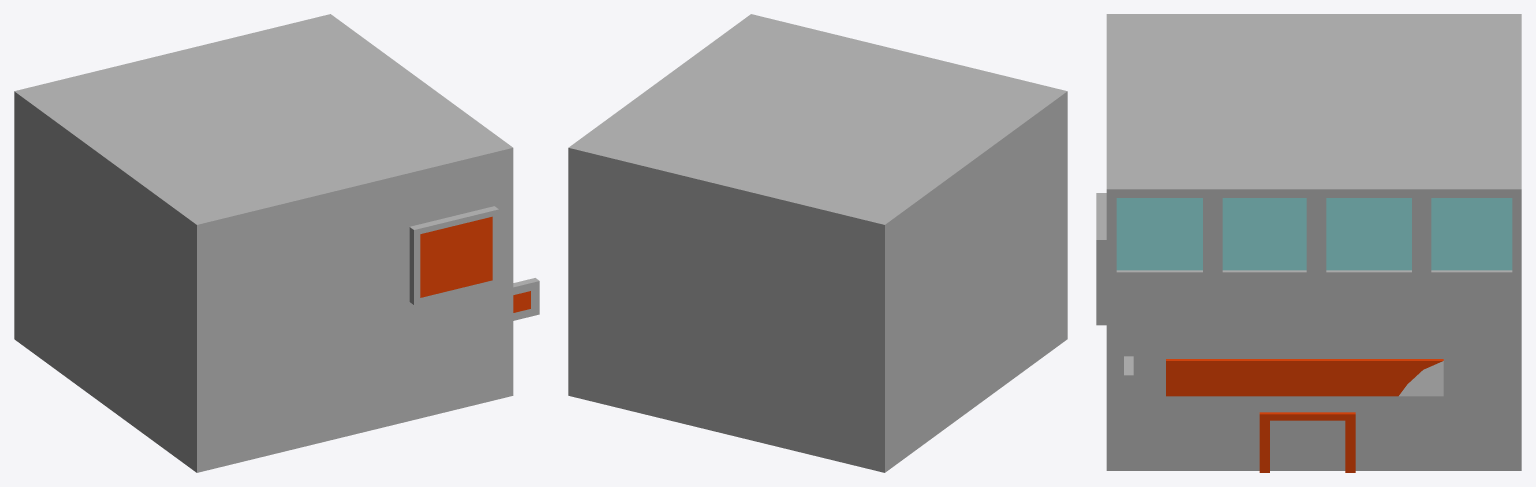
File: bank2.fbx
The picture shows the model from 3 angles, left to right: view 1: azimuth 30°, elevation 25°; view 2: azimuth 150°, elevation 25°; view 3: azimuth 270°, elevation 25°; orthographic projection. The views are drawn at different scales.
Parts seen in each view (by area): view 1: Cube, Cube.004, Cube.003; view 2: Cube; view 3: Cube, Cube.001, Cube.002, Cube.004, Cube.003.
Part boxes in pixels (bbox=[...]): Cube: bbox=[14, 14, 513, 472]; Cube.004: bbox=[409, 206, 498, 304]; Cube.003: bbox=[513, 278, 539, 320]; Cube: bbox=[568, 14, 1067, 472]; Cube: bbox=[1106, 14, 1521, 470]; Cube.001: bbox=[1166, 359, 1443, 396]; Cube.002: bbox=[1259, 412, 1355, 472]; Cube.004: bbox=[1096, 193, 1106, 325]; Cube.003: bbox=[1124, 356, 1133, 413].
Bounding box in the file's own units: 492 × 333 × 455.
